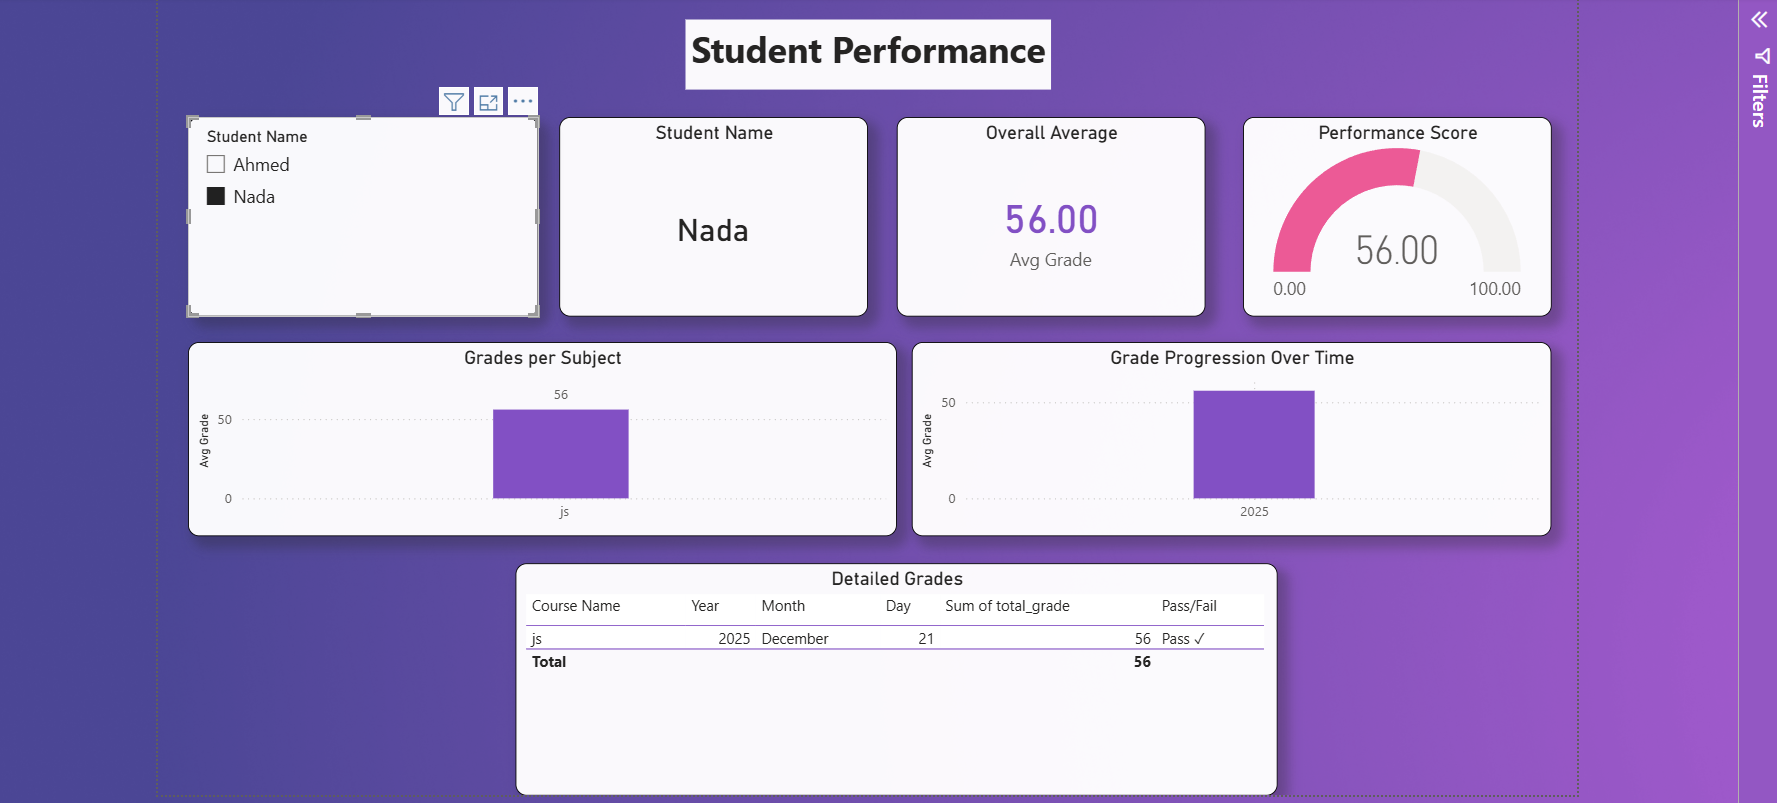

The page's visual inventory and layout, read from the dashboard file:
{"tool":"powerbi","page":{"name":"Student Performance","canvas":[1280,720],"ordinal":1},"visuals":[{"type":"card","title":"Student Name","fields":{"Values":["Min(Student_Exam.Student Name)"]},"box":[362.4,108.2,278.2,180.3],"z":0},{"type":"card","title":"Overall Average","fields":{"Values":["Student_Exam.Avg Grade"]},"box":[666.3,108.2,278.2,180.3],"z":1000},{"type":"gauge","title":"Performance Score","fields":{"Y":["Student_Exam.Avg Grade"]},"box":[978.9,108.2,278.2,180.3],"z":2000},{"type":"clusteredColumnChart","title":"Grades per Subject","fields":{"Category":["Course.crs_name"],"Y":["Student_Exam.Avg Grade"]},"box":[27.5,310.8,638.9,175.2],"z":3000},{"type":"lineStackedColumnComboChart","title":"Grade Progression Over Time","fields":{"Category":["Exam.exam_date.Variation.Date Hierarchy.Year","Exam.exam_date.Variation.Date Hierarchy.Quarter","Exam.exam_date.Variation.Date Hierarchy.Month","Exam.exam_date.Variation.Date Hierarchy.Day"],"Y":["Student_Exam.Avg Grade"]},"box":[680.1,310.8,577,175.2],"z":4000},{"type":"tableEx","title":"Detailed Grades","fields":{"Values":["Student_Exam.Course Name","Student_Exam.Exam Date.Variation.Date Hierarchy.Year","Student_Exam.Exam Date.Variation.Date Hierarchy.Month","Student_Exam.Exam Date.Variation.Date Hierarchy.Day","Sum(Student_Exam.total_grade)","Student_Exam.Pass/Fail"]},"box":[322.9,510.1,686.9,209.5],"z":5000},{"type":"textbox","box":[475.7,20.6,329.7,63.5],"z":6000},{"type":"slicer","fields":{"Values":["Student_Exam.Student Name"]},"box":[27.5,108.2,316,180.3],"z":7000}]}

Visuals, with their boxes in screenshot pixels (x1, y1, x2, y2):
"Student Name" card: <region>557, 115, 864, 314</region>
"Overall Average" card: <region>892, 115, 1199, 314</region>
"Performance Score" gauge: <region>1237, 115, 1544, 314</region>
"Grades per Subject" clusteredColumnChart: <region>188, 338, 892, 531</region>
"Grade Progression Over Time" lineStackedColumnComboChart: <region>907, 338, 1544, 531</region>
"Detailed Grades" tableEx: <region>513, 558, 1271, 789</region>
textbox: <region>682, 18, 1046, 88</region>
slicer - Student_Exam.Student Name: <region>188, 115, 536, 314</region>
